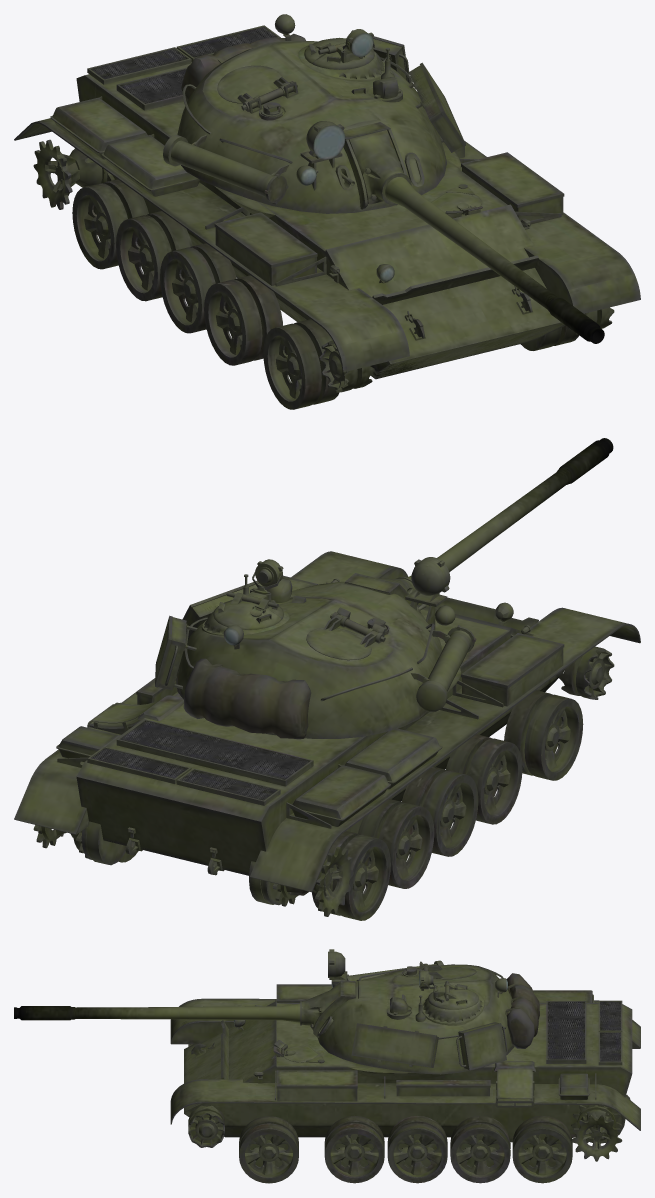
3 renders of one model, top to bottom at view 1: azimuth 30°, elevation 25°; view 2: azimuth 150°, elevation 25°; view 3: azimuth 270°, elevation 25°, orthographic. The views are drawn at different scales.
Parts seen in each view (by area): view 1: Wanne, turret, cannon, radL4, radL5, radL3, radL2, radL1, radL0, radL6, radR5; view 2: Wanne, turret, radL5, radL4, radL3, radL2, cannon, radL1, radL0, radL6; view 3: Wanne, turret, cannon, radR3, radR4, radR2, radR1, radR5, radR0, radR6.
Part boxes in pixels (bbox=[...]): Wanne: bbox=[14, 25, 640, 379]; turret: bbox=[163, 14, 465, 213]; cannon: bbox=[381, 173, 604, 343]; radL4: bbox=[204, 275, 282, 365]; radL5: bbox=[263, 319, 338, 409]; radL3: bbox=[160, 243, 236, 333]; radL2: bbox=[116, 211, 192, 301]; radL1: bbox=[72, 179, 148, 269]; radL0: bbox=[33, 139, 114, 209]; radL6: bbox=[319, 340, 374, 392]; radR5: bbox=[520, 325, 578, 350]; Wanne: bbox=[14, 551, 640, 905]; turret: bbox=[155, 557, 476, 739]; radL5: bbox=[504, 690, 583, 780]; radL4: bbox=[446, 734, 522, 824]; radL3: bbox=[402, 766, 478, 856]; radL2: bbox=[358, 799, 434, 888]; cannon: bbox=[396, 438, 613, 604]; radL1: bbox=[312, 831, 390, 920]; radL0: bbox=[272, 846, 353, 916]; radL6: bbox=[559, 646, 614, 699]; Wanne: bbox=[170, 984, 640, 1143]; turret: bbox=[301, 949, 539, 1074]; cannon: bbox=[14, 1001, 301, 1025]; radR3: bbox=[387, 1115, 447, 1183]; radR4: bbox=[324, 1115, 384, 1183]; radR2: bbox=[450, 1115, 510, 1183]; radR1: bbox=[512, 1115, 572, 1183]; radR5: bbox=[239, 1116, 298, 1183]; radR0: bbox=[571, 1105, 622, 1161]; radR6: bbox=[188, 1105, 224, 1147].
Bounding box in the file's own units: 3.31 × 2.66 × 8.43.
Materials: 1 (1 with a texture image).
